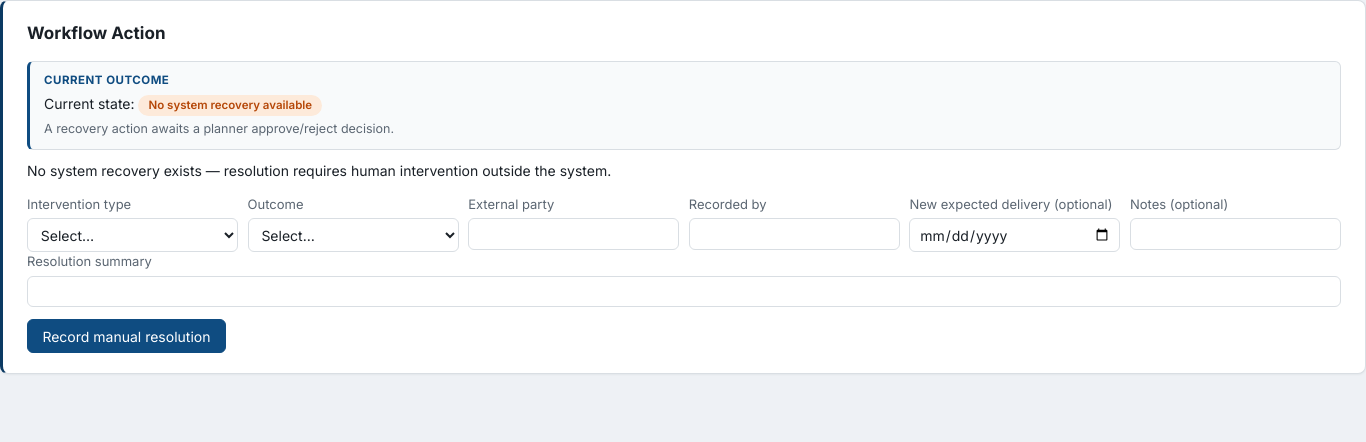
WorkflowAction — manual resolution flow › records a complete manual resolution and renders the outcome
Select "Carrier call" in the dropdown labelled "Intervention type": [132, 235] box [27,218,238,252]
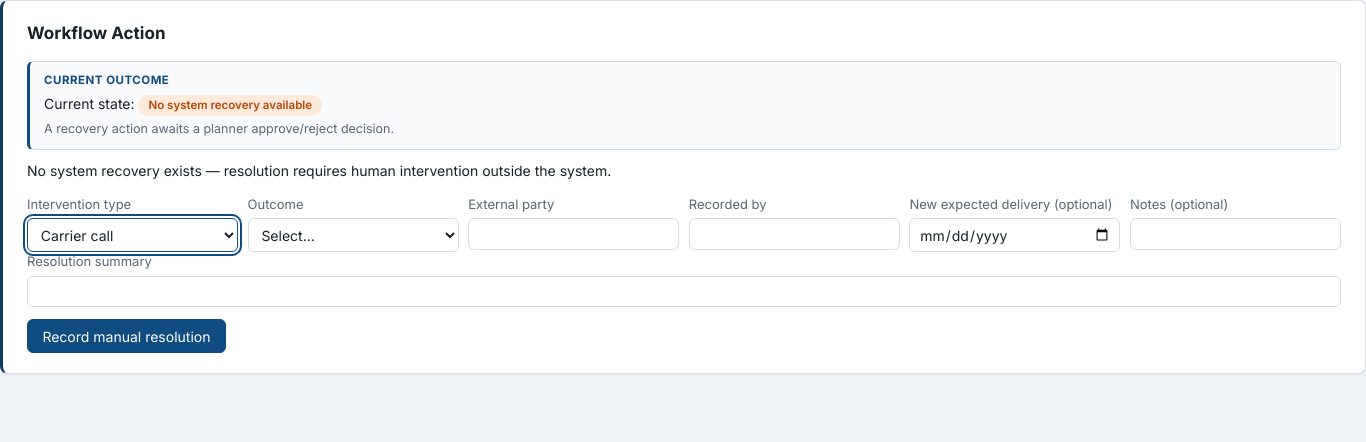
Select "Resolved" in the dropdown labelled "Outcome": [353, 235] box [248,218,459,252]
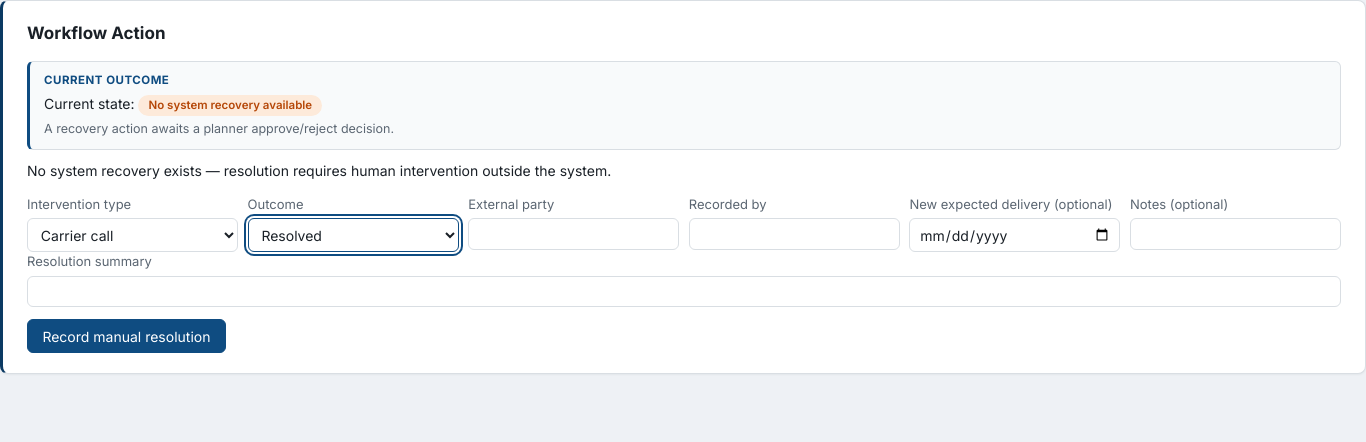
In the field labelled "External party": [574, 234] box [468,218,679,250], type "Ocean carrier ops"
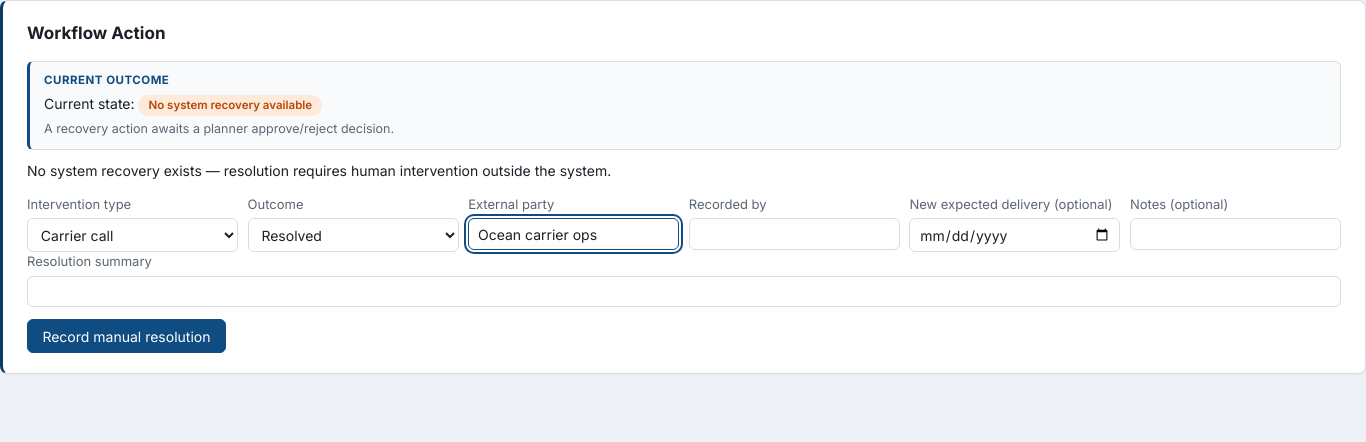
In the field labelled "Recorded by": [794, 234] box [689,218,900,250], type "P. Planner"
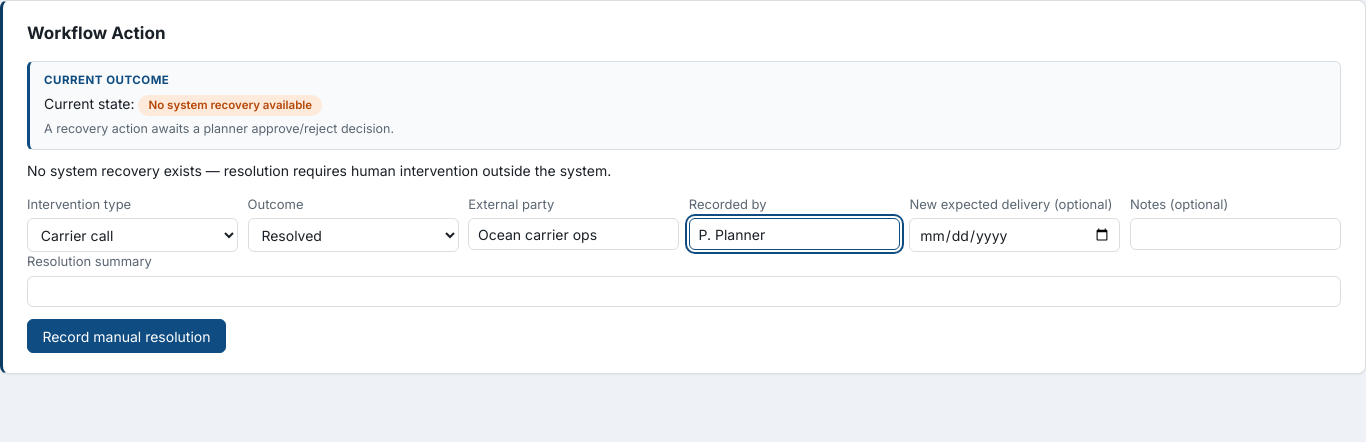
In the field labelled "Resolution summary": [684, 291] box [27,276,1341,307], type "Coordinated a revised delivery plan."
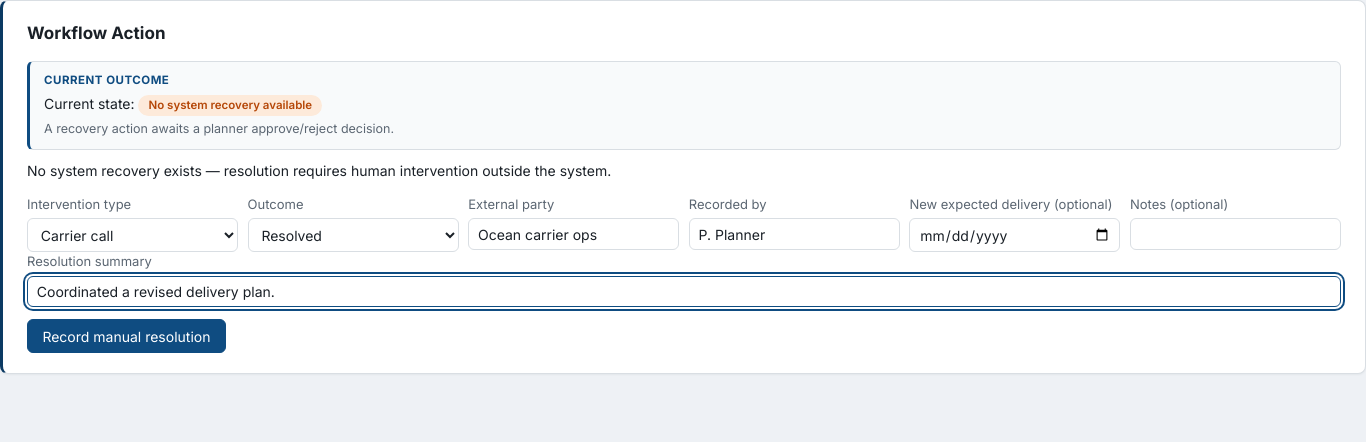
Click the button "Record manual resolution": [126, 336] box [27,319,226,353]
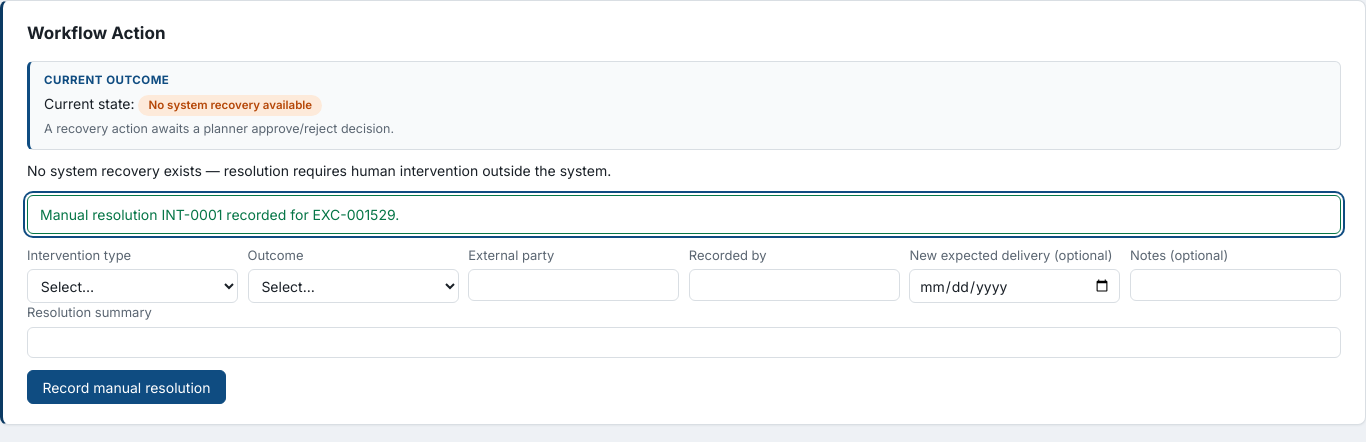
Check: the message reads "Manual resolution INT-0001 recorded for EXC-001529.", box [40,206,399,223]
